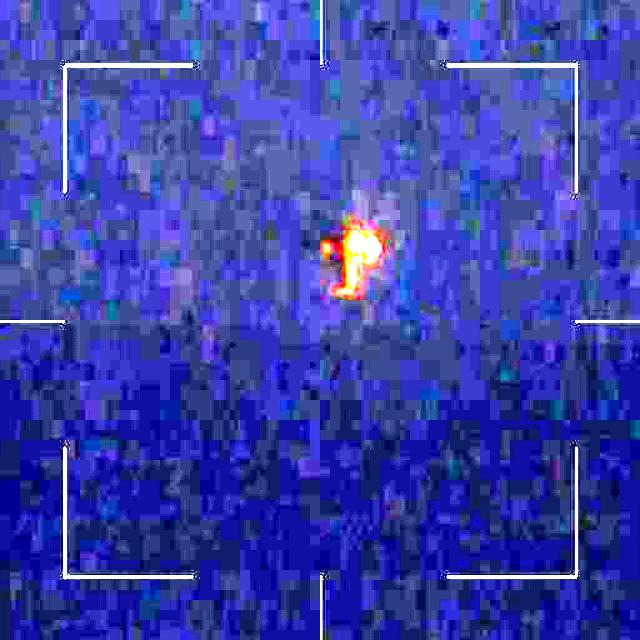bird: (314, 221, 388, 302)
